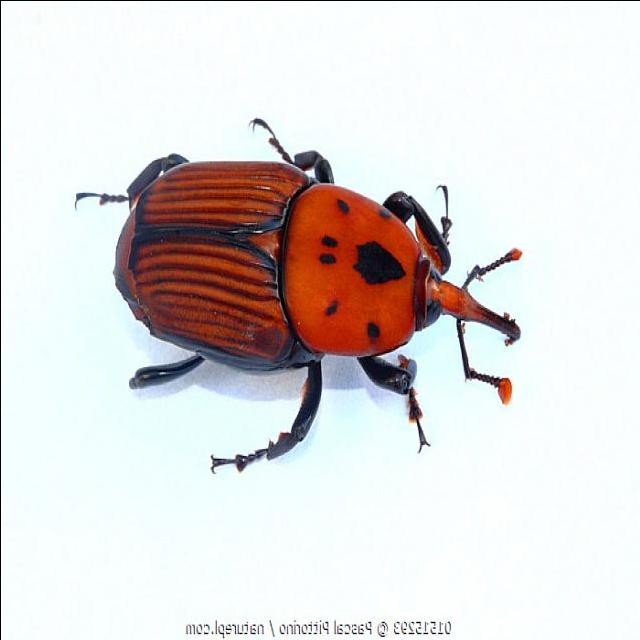Red-palm-weevil: (103, 152, 525, 410)
